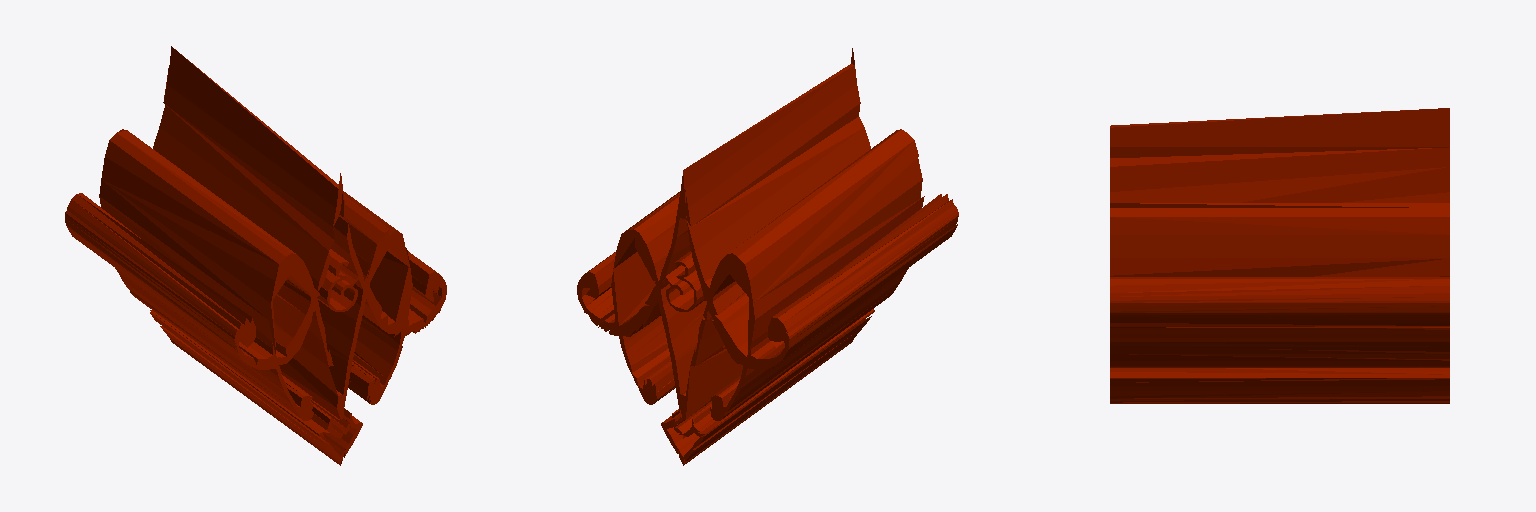
File: amtrads.obj
3 renders of one model, left to right at view 1: azimuth 30°, elevation 25°; view 2: azimuth 150°, elevation 25°; view 3: azimuth 270°, elevation 25°, orthographic.
Parts seen in each view (by area): view 1: Cube; view 2: Cube; view 3: Cube.
Part boxes in pixels (x1,y1,x2,y2): Cube: (65,46,446,465); Cube: (577,48,958,465); Cube: (1110,108,1449,403).
Bounding box in the file's own units: 1.45 × 1.93 × 2.